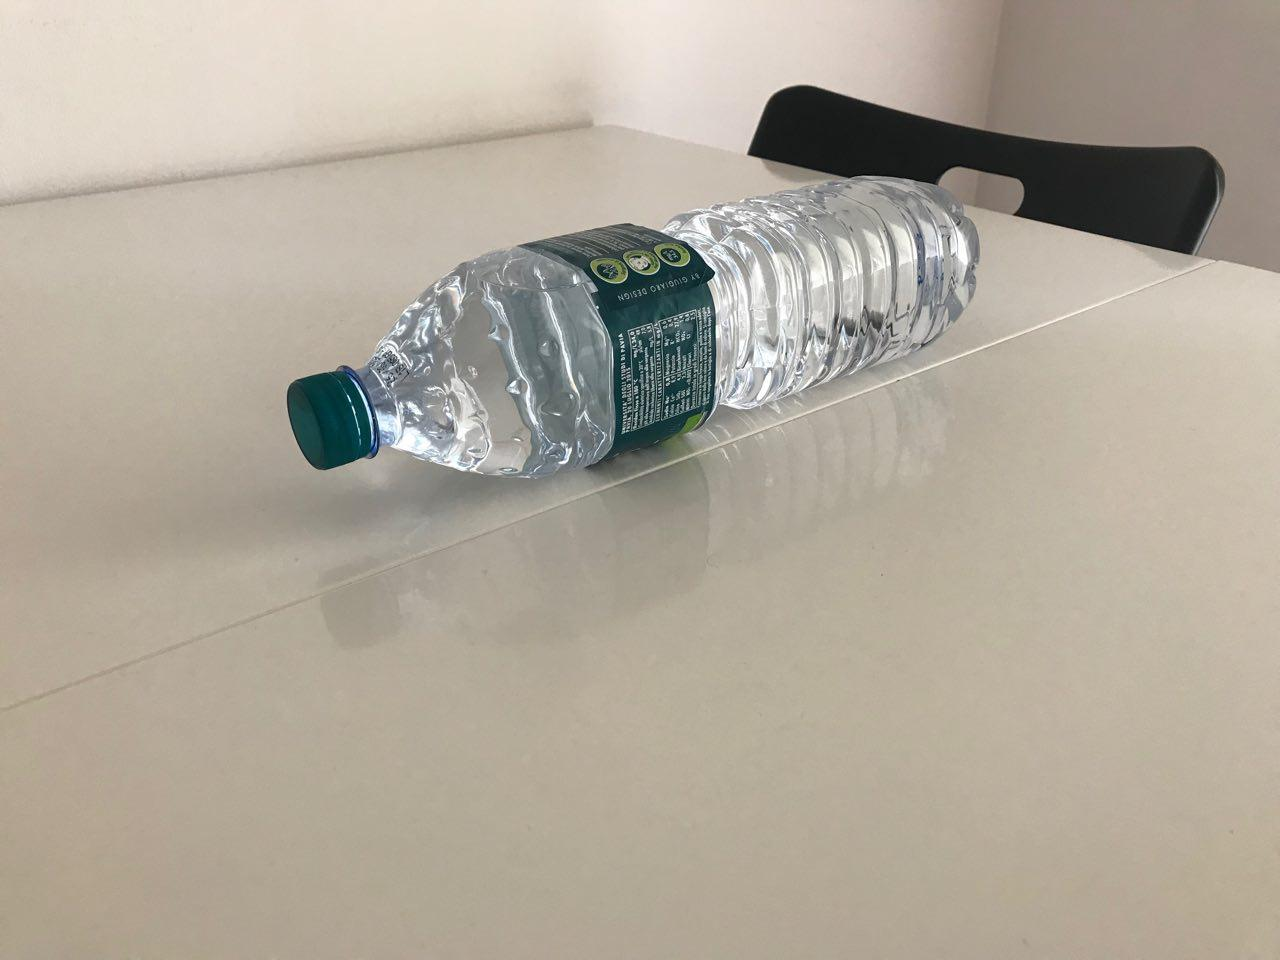san_bernardo: (284, 175, 981, 480)
